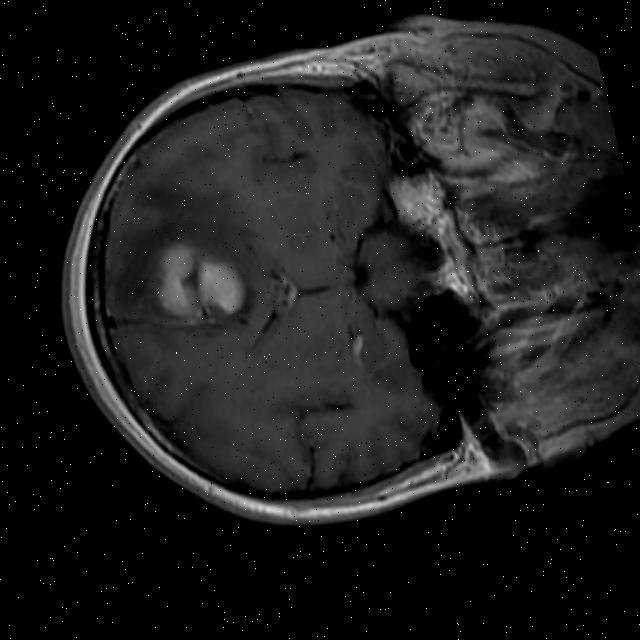Meningioma: (143, 224, 251, 331)
